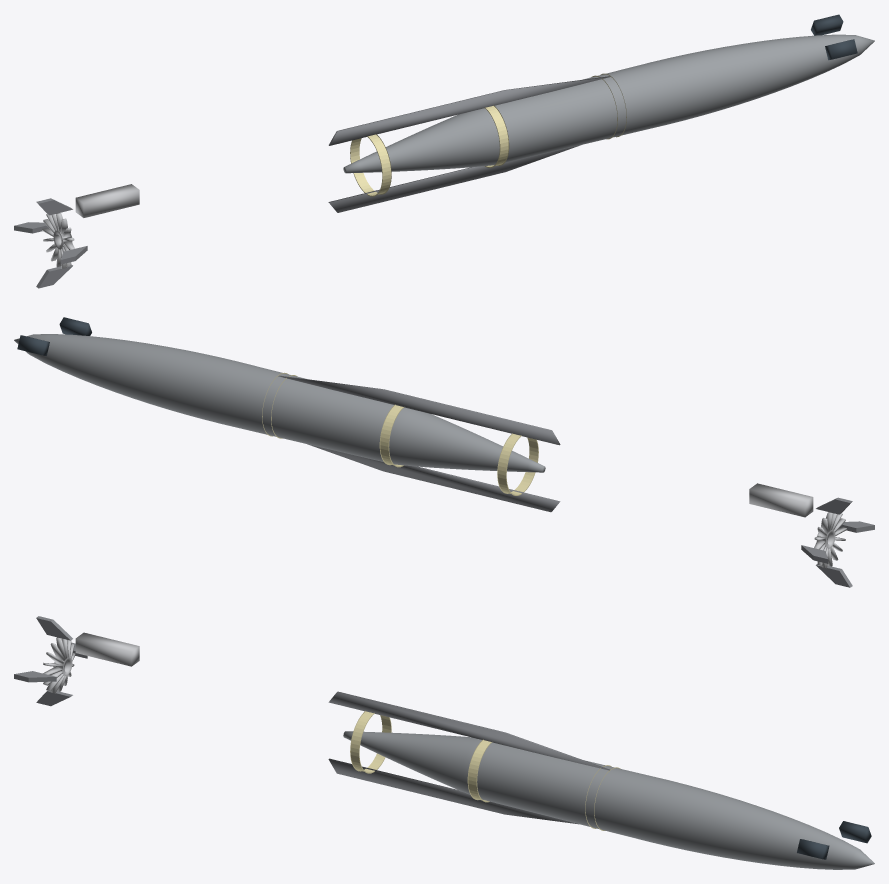
The model's file is RU_TORP_TEST71M_LOD0.fbx.
3 renders of one model, top to bottom at view 1: azimuth 30°, elevation 25°; view 2: azimuth 150°, elevation 25°; view 3: azimuth 330°, elevation 25°, orthographic.
Parts seen in each view (by area): view 1: WPN_RU_TORP_TEST71M_LOD0_Body, WPN_RU_TORP_TEST71M_LOD0_Detail, WPN_RU_TORP_TEST71M_LOD0_Marking, WPN_RU_TORP_TEST71M_LOD0_Fins, WPN_RU_TORP_TEST71M_LOD0_Propulsor, WPN_RU_TORP_TEST71M_LOD0_Seeker; view 2: WPN_RU_TORP_TEST71M_LOD0_Body, WPN_RU_TORP_TEST71M_LOD0_Detail, WPN_RU_TORP_TEST71M_LOD0_Marking, WPN_RU_TORP_TEST71M_LOD0_Fins, WPN_RU_TORP_TEST71M_LOD0_Propulsor, WPN_RU_TORP_TEST71M_LOD0_Seeker; view 3: WPN_RU_TORP_TEST71M_LOD0_Body, WPN_RU_TORP_TEST71M_LOD0_Detail, WPN_RU_TORP_TEST71M_LOD0_Marking, WPN_RU_TORP_TEST71M_LOD0_Fins, WPN_RU_TORP_TEST71M_LOD0_Propulsor, WPN_RU_TORP_TEST71M_LOD0_Seeker.
Boxes of the visible parts, x1,y1,x2,y2 form: WPN_RU_TORP_TEST71M_LOD0_Body: (343, 34, 874, 173); WPN_RU_TORP_TEST71M_LOD0_Detail: (75, 76, 610, 217); WPN_RU_TORP_TEST71M_LOD0_Marking: (350, 73, 626, 196); WPN_RU_TORP_TEST71M_LOD0_Fins: (14, 198, 87, 288); WPN_RU_TORP_TEST71M_LOD0_Propulsor: (42, 213, 74, 268); WPN_RU_TORP_TEST71M_LOD0_Seeker: (811, 14, 857, 60); WPN_RU_TORP_TEST71M_LOD0_Body: (14, 334, 545, 472); WPN_RU_TORP_TEST71M_LOD0_Detail: (278, 375, 813, 517); WPN_RU_TORP_TEST71M_LOD0_Marking: (262, 372, 538, 495); WPN_RU_TORP_TEST71M_LOD0_Fins: (801, 497, 874, 587); WPN_RU_TORP_TEST71M_LOD0_Propulsor: (814, 512, 846, 568); WPN_RU_TORP_TEST71M_LOD0_Seeker: (17, 317, 91, 355); WPN_RU_TORP_TEST71M_LOD0_Body: (343, 731, 874, 869); WPN_RU_TORP_TEST71M_LOD0_Detail: (75, 632, 609, 824); WPN_RU_TORP_TEST71M_LOD0_Marking: (350, 711, 620, 830); WPN_RU_TORP_TEST71M_LOD0_Fins: (14, 616, 87, 706); WPN_RU_TORP_TEST71M_LOD0_Propulsor: (43, 637, 75, 693); WPN_RU_TORP_TEST71M_LOD0_Seeker: (797, 821, 871, 859).
Size of the model in its own units: 7.98 by 0.7715 by 0.7715.
